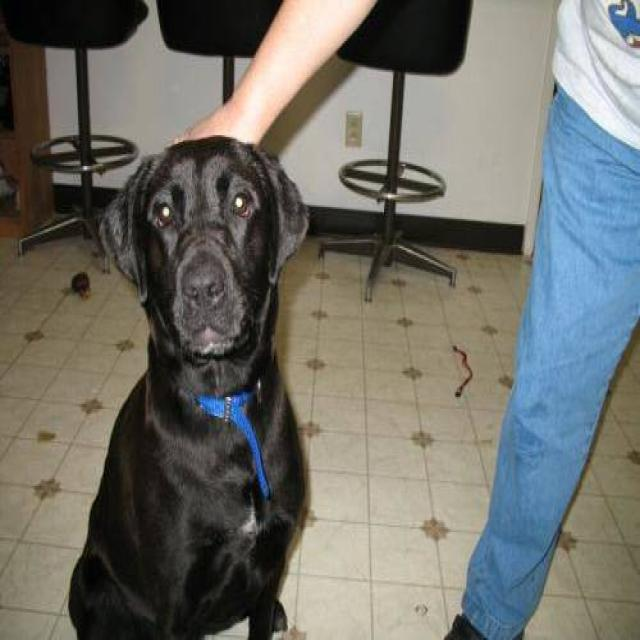dog: (66, 134, 310, 638)
